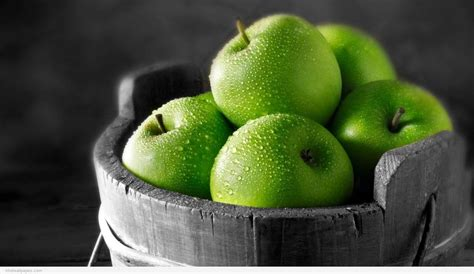apple: (208, 13, 341, 124), (210, 111, 353, 208), (119, 96, 223, 198), (338, 76, 453, 156)
